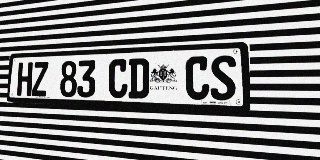3: (77, 60, 96, 98)
8: (60, 61, 78, 97)
C: (185, 56, 209, 100), (108, 59, 128, 98)
D: (128, 58, 149, 99)
H: (17, 62, 33, 96)
S: (210, 55, 236, 101)
Z: (32, 62, 48, 96)
